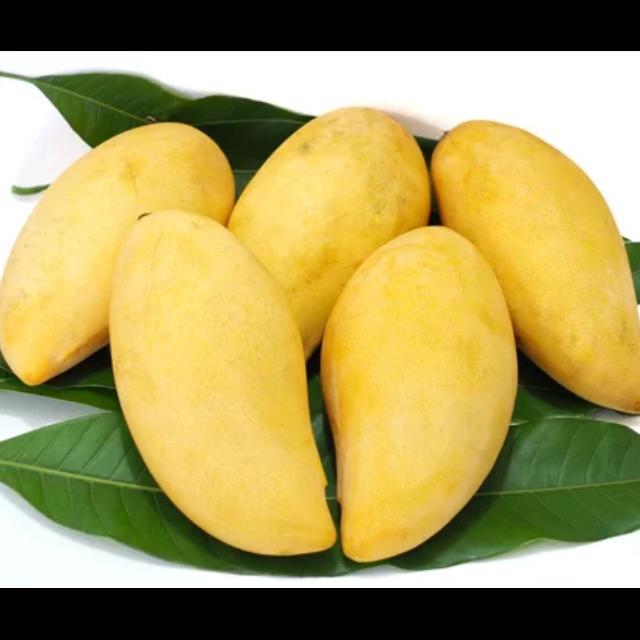mango: (103, 205, 339, 564), (318, 223, 520, 568), (428, 115, 640, 420)
